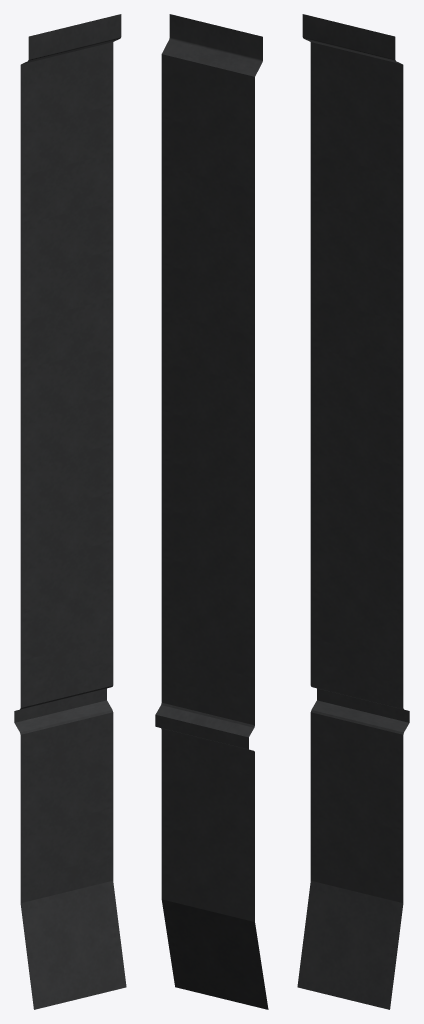
Rendered from M_Wall_Straight_2x20_v2.fbx.
The picture shows the model from 3 angles, left to right: view 1: azimuth 30°, elevation 25°; view 2: azimuth 150°, elevation 25°; view 3: azimuth 330°, elevation 25°; orthographic projection.
Parts seen in each view (by area): view 1: Wall_Straight_2x20_v2; view 2: Wall_Straight_2x20_v2; view 3: Wall_Straight_2x20_v2.
Boxes of the visible parts, x1,y1,x2,y2 form: Wall_Straight_2x20_v2: (14, 14, 126, 1009); Wall_Straight_2x20_v2: (155, 14, 268, 1009); Wall_Straight_2x20_v2: (297, 14, 409, 1009).
Size of the model in its own units: 200 by 2000 by 73.02.
